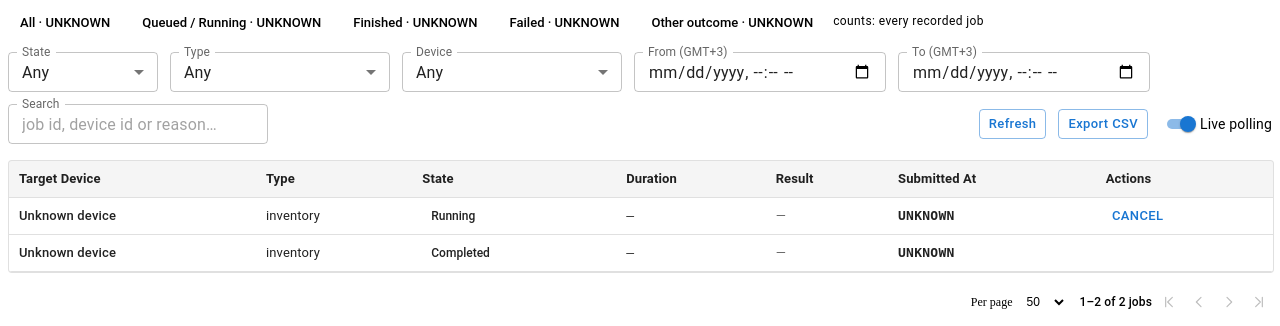
Test: offers cancellation only for permitted active jobs and submits the opaque job id
Click the button "Cancel".
click(1138, 216)  # box x1=1106 y1=201 x2=1170 y2=231
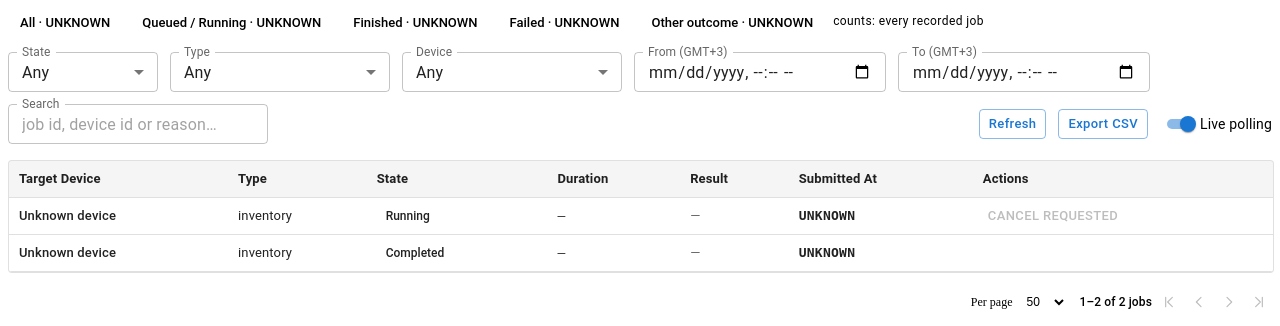
Expected: the button "Cancel requested" is disabled, x1=983 y1=201 x2=1123 y2=231
